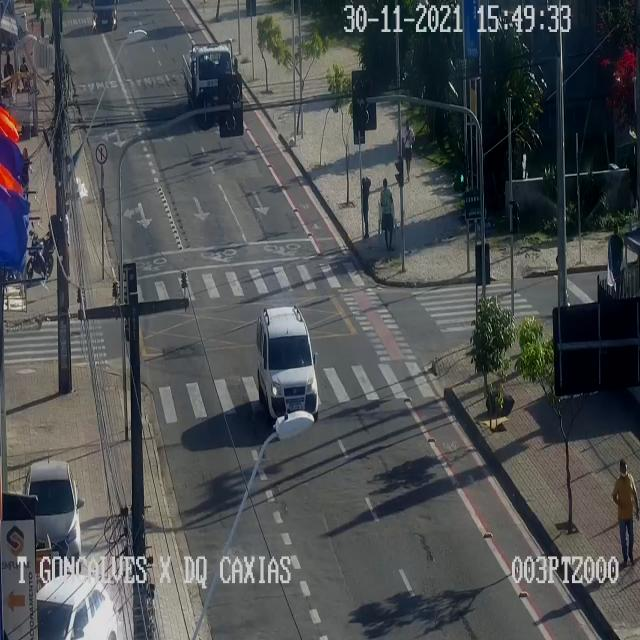Car: (256, 306, 318, 418), (24, 460, 80, 570), (36, 574, 116, 639), (92, 0, 117, 32)
Motorcycle: (25, 230, 53, 281)
Truck: (182, 42, 233, 120)
